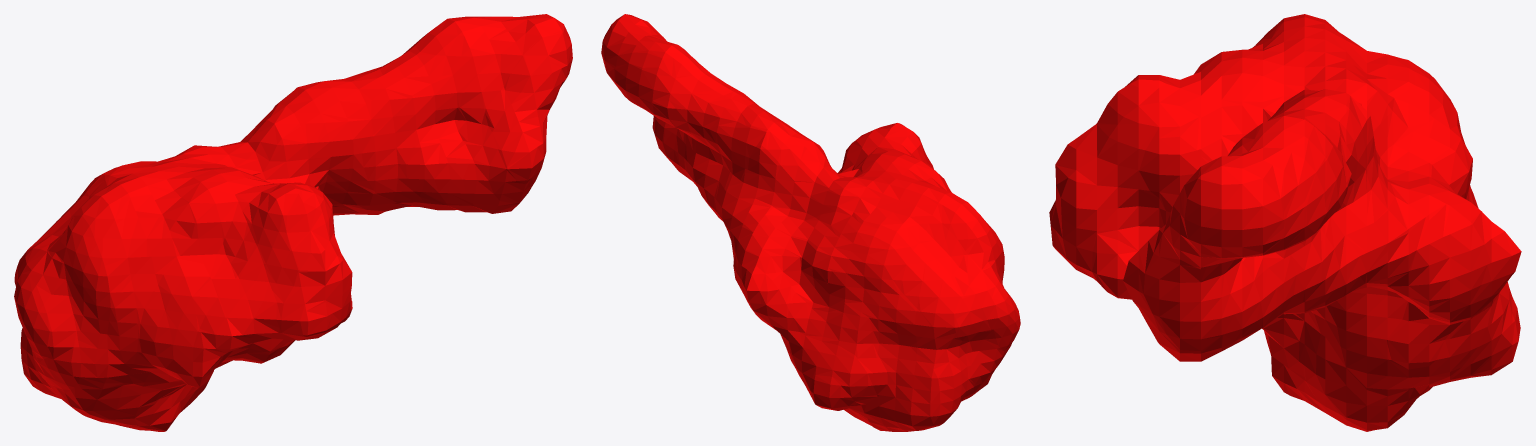
File: yfdH_coarse.dae
The picture shows the model from 3 angles, left to right: view 1: azimuth 30°, elevation 25°; view 2: azimuth 150°, elevation 25°; view 3: azimuth 270°, elevation 25°; orthographic projection. The views are drawn at different scales.
Visible parts, largest first — view 1: yfdH; view 2: yfdH; view 3: yfdH.
Part boxes in pixels (x1=…): yfdH: x1=14, y1=14, x2=572, y2=431; yfdH: x1=601, y1=14, x2=1020, y2=431; yfdH: x1=1049, y1=14, x2=1521, y2=431.
Bounding box in the file's own units: 94.38 × 62.87 × 54.39.
